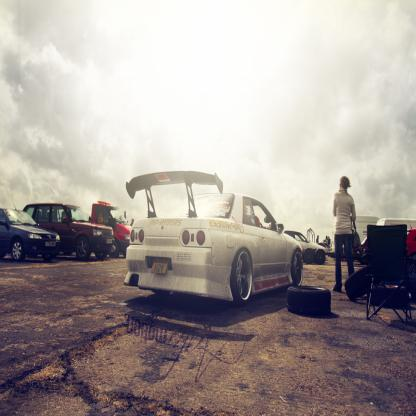Car: (129, 174, 306, 307), (23, 201, 116, 256), (1, 208, 58, 261), (285, 231, 330, 266)
